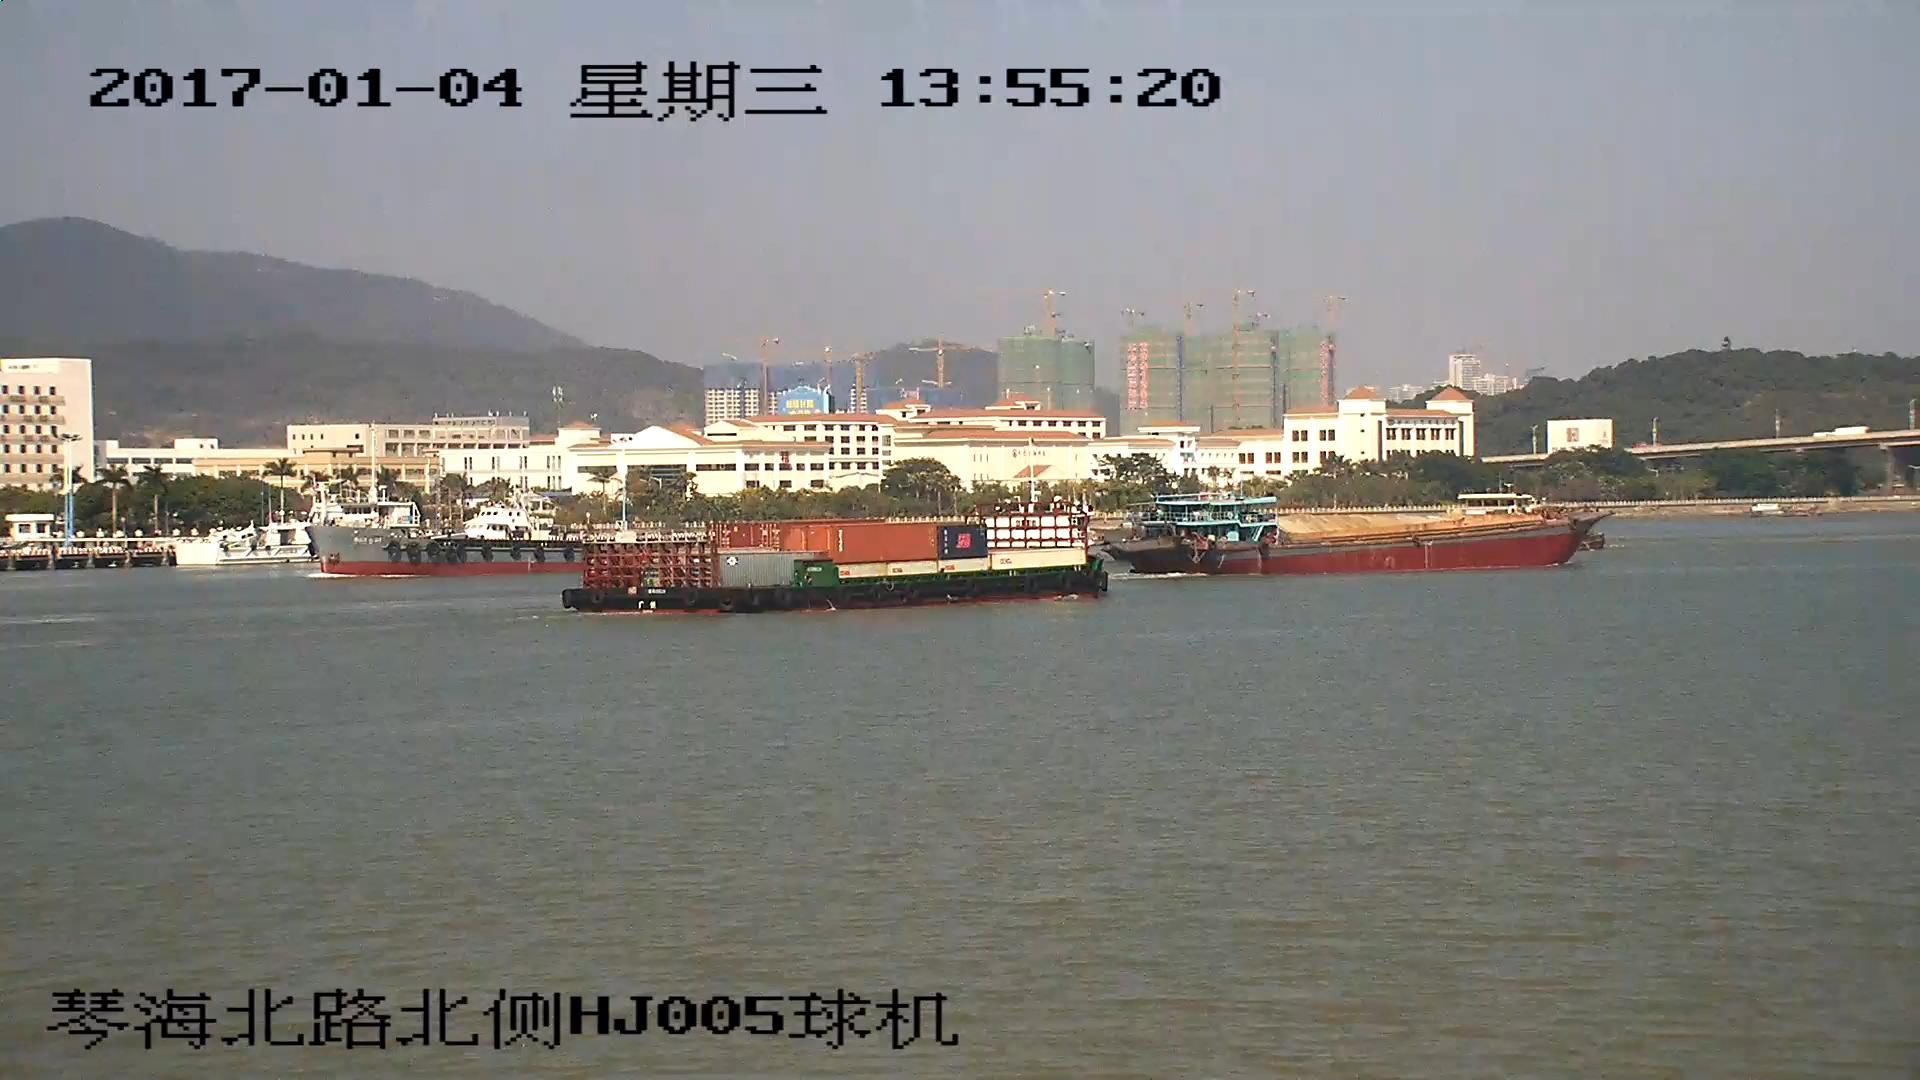bulk cargo carrier: (1121, 510, 1607, 573)
container ship: (563, 508, 1107, 612)
general cargo ship: (307, 489, 575, 573)
